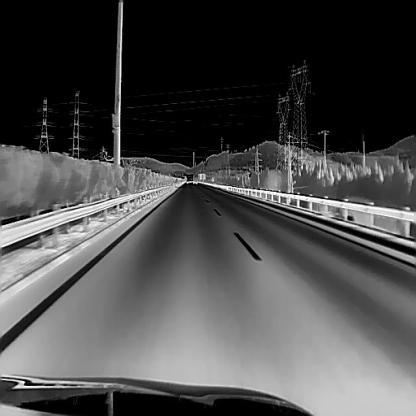car: (193, 173, 198, 183)
